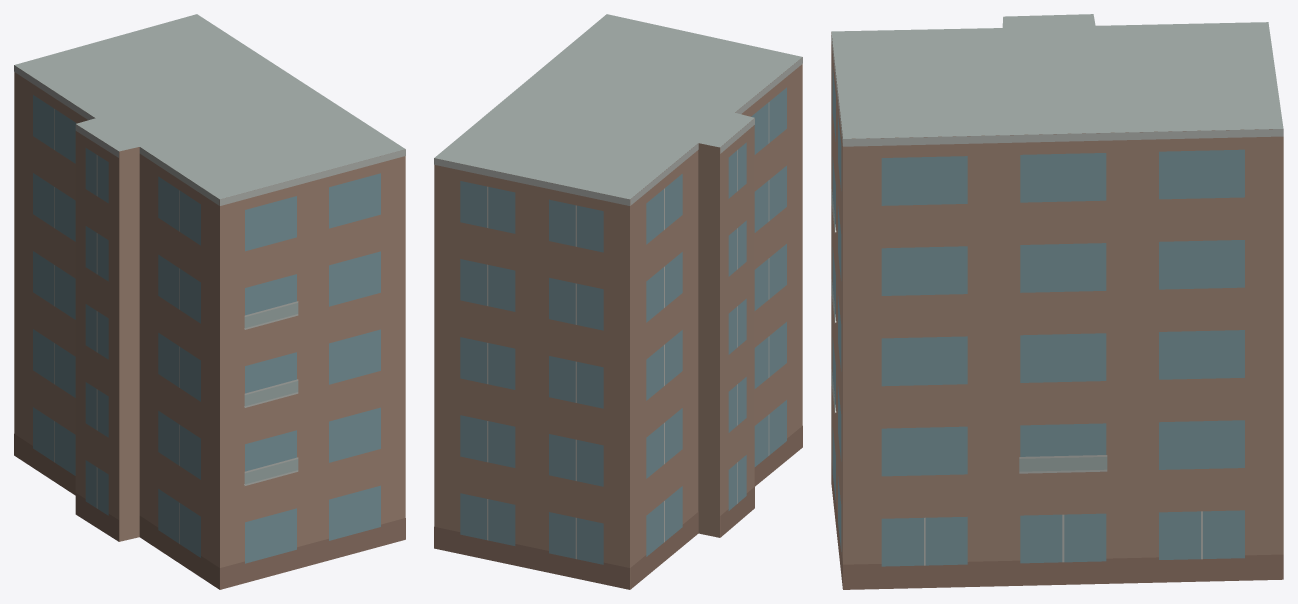
File: survey-upis-32972339.glb
The picture shows the model from 3 angles, left to right: view 1: azimuth 30°, elevation 25°; view 2: azimuth 150°, elevation 25°; view 3: azimuth 270°, elevation 25°; orthographic projection. The views are drawn at different scales.
Visible parts, largest first — view 1: survey-upis-32972339.tmp; view 2: survey-upis-32972339.tmp; view 3: survey-upis-32972339.tmp.
Boxes of the visible parts, left/top/right/bottom form: survey-upis-32972339.tmp: left=14, top=14, right=405, bottom=589; survey-upis-32972339.tmp: left=434, top=14, right=802, bottom=589; survey-upis-32972339.tmp: left=831, top=14, right=1283, bottom=589.
Bounding box in the file's own units: 8.45 × 14.2 × 12.92.
